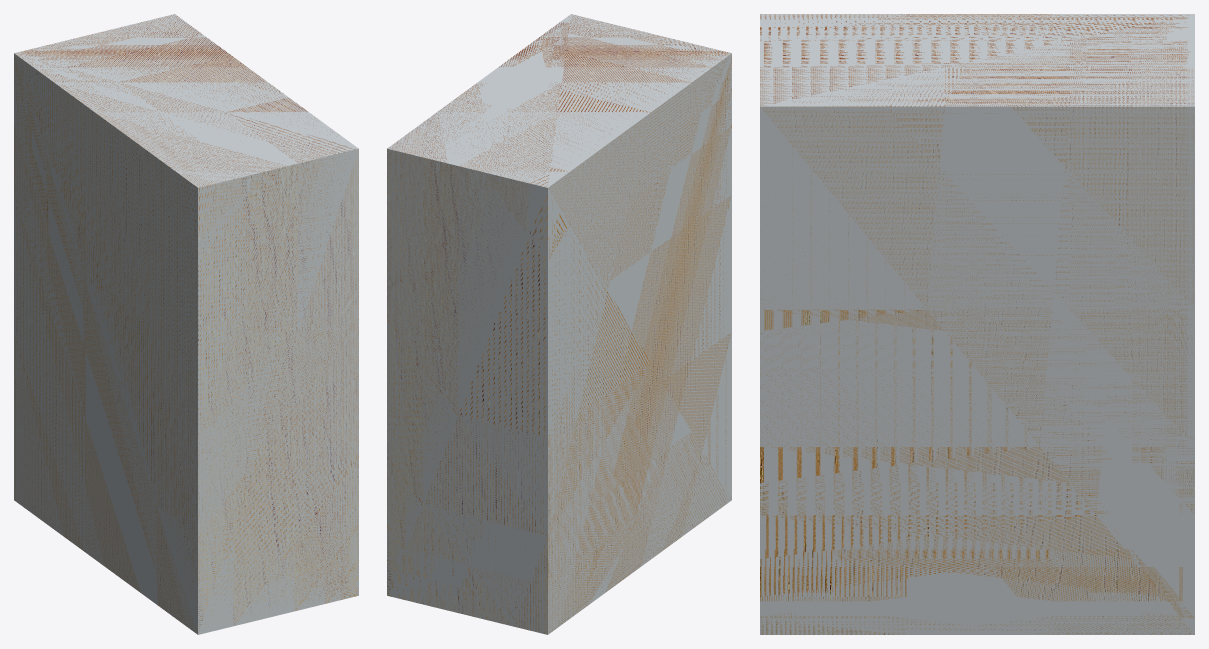
The model's file is jelutung.glb.
3 views of the same model, side by side, from view 1: azimuth 30°, elevation 25°; view 2: azimuth 150°, elevation 25°; view 3: azimuth 270°, elevation 25° (orthographic). The views are drawn at different scales.
Parts seen in each view (by area): view 1: BackSide, FrontSide; view 2: BackSide, FrontSide; view 3: BackSide, FrontSide.
Boxes of the visible parts, left/top/right/bottom form: BackSide: left=14, top=14, right=358, bottom=634; FrontSide: left=14, top=14, right=358, bottom=633; BackSide: left=387, top=14, right=731, bottom=634; FrontSide: left=387, top=14, right=731, bottom=633; BackSide: left=760, top=14, right=1194, bottom=634; FrontSide: left=760, top=14, right=1194, bottom=634.
Bounding box in the file's own units: 0.7649 × 2.03 × 1.52.
Materials: 4 (3 with a texture image).
